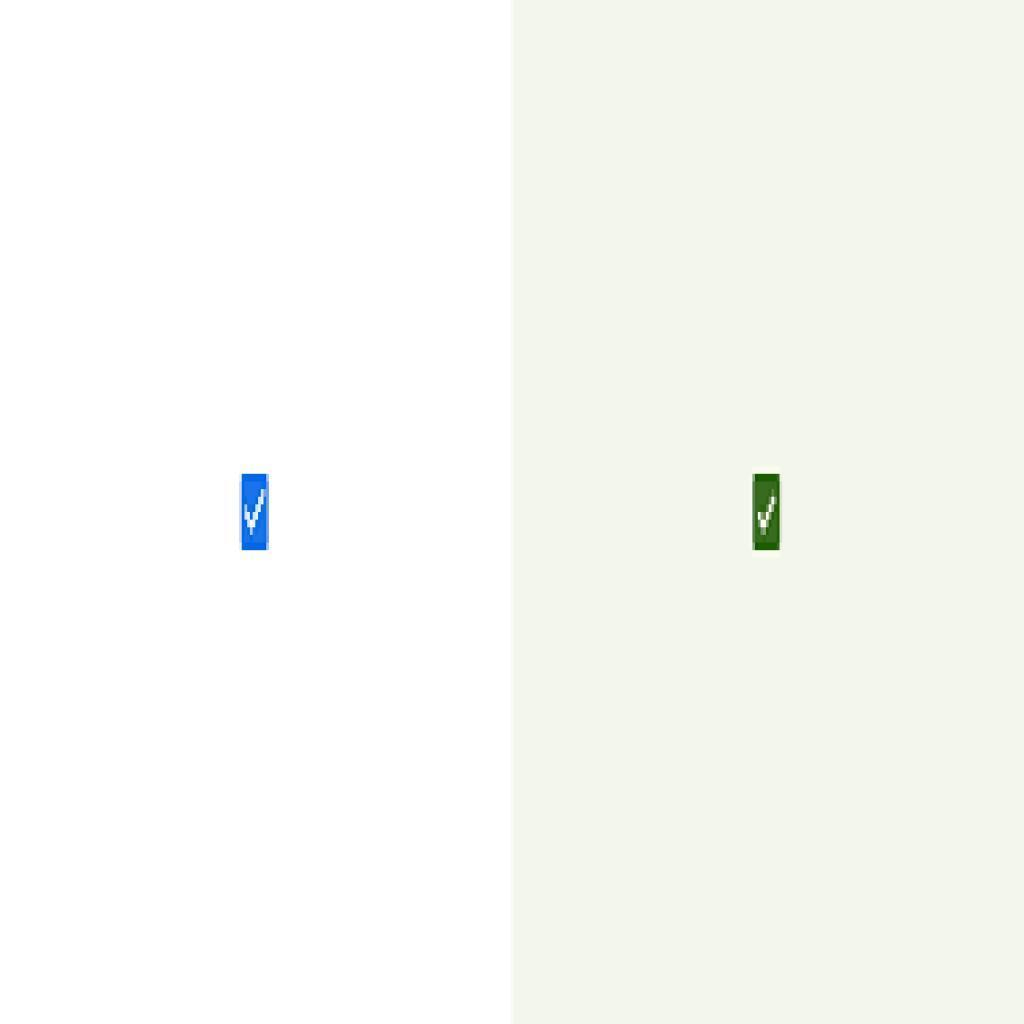checkbox: (243, 474, 268, 551), (754, 475, 779, 551)
